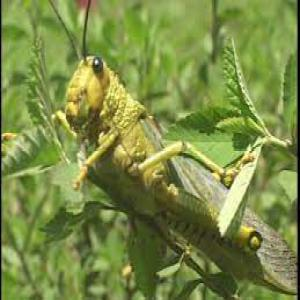locust: (62, 7, 253, 270)
